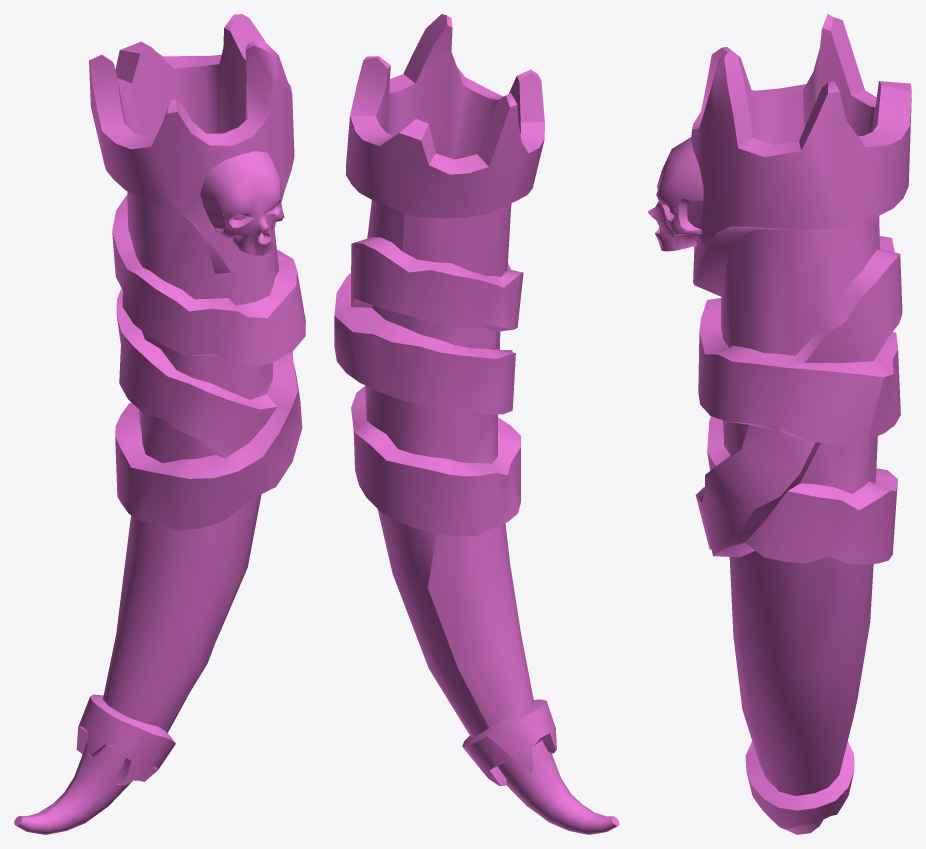
Rendered from SM_Undead_Quiver_1.fbx.
3 views of the same model, side by side, from view 1: azimuth 30°, elevation 25°; view 2: azimuth 150°, elevation 25°; view 3: azimuth 270°, elevation 25° (orthographic). The views are drawn at different scales.
Visible parts, largest first — view 1: SM_Undead_Quiver_1; view 2: SM_Undead_Quiver_1; view 3: SM_Undead_Quiver_1.
Boxes of the visible parts, x1=… form: SM_Undead_Quiver_1: x1=14, y1=14, x2=305, y2=834; SM_Undead_Quiver_1: x1=334, y1=14, x2=619, y2=834; SM_Undead_Quiver_1: x1=648, y1=14, x2=911, y2=834.
Size of the model in its own units: 0.3562 by 0.9422 by 0.2601.
